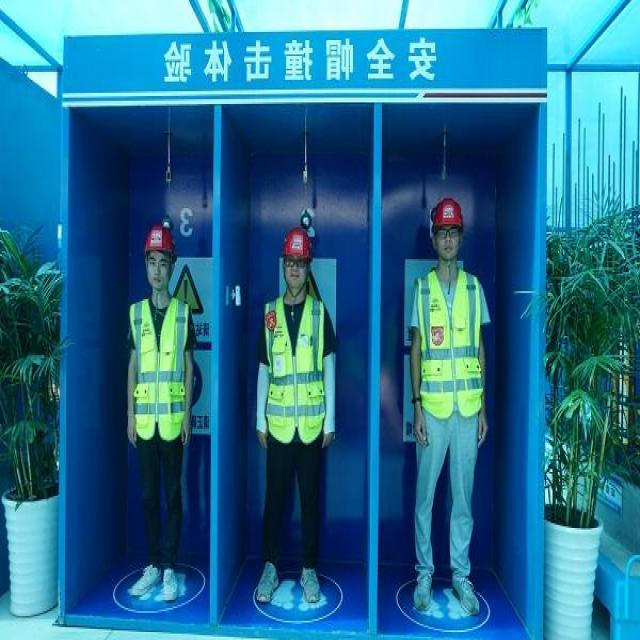Reflective-Jacket: (414, 266, 485, 416), (262, 291, 328, 442), (127, 293, 190, 437)
Safety-Helmet: (429, 194, 464, 228), (280, 225, 312, 258), (142, 222, 175, 253)
